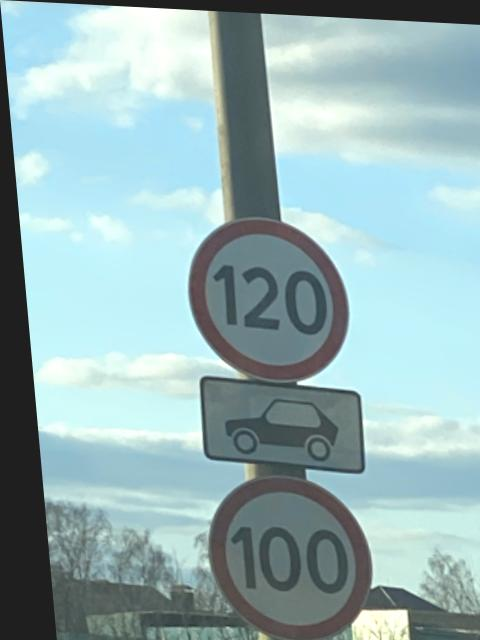limit100: (186, 461, 374, 640)
limit120: (165, 210, 356, 388)
